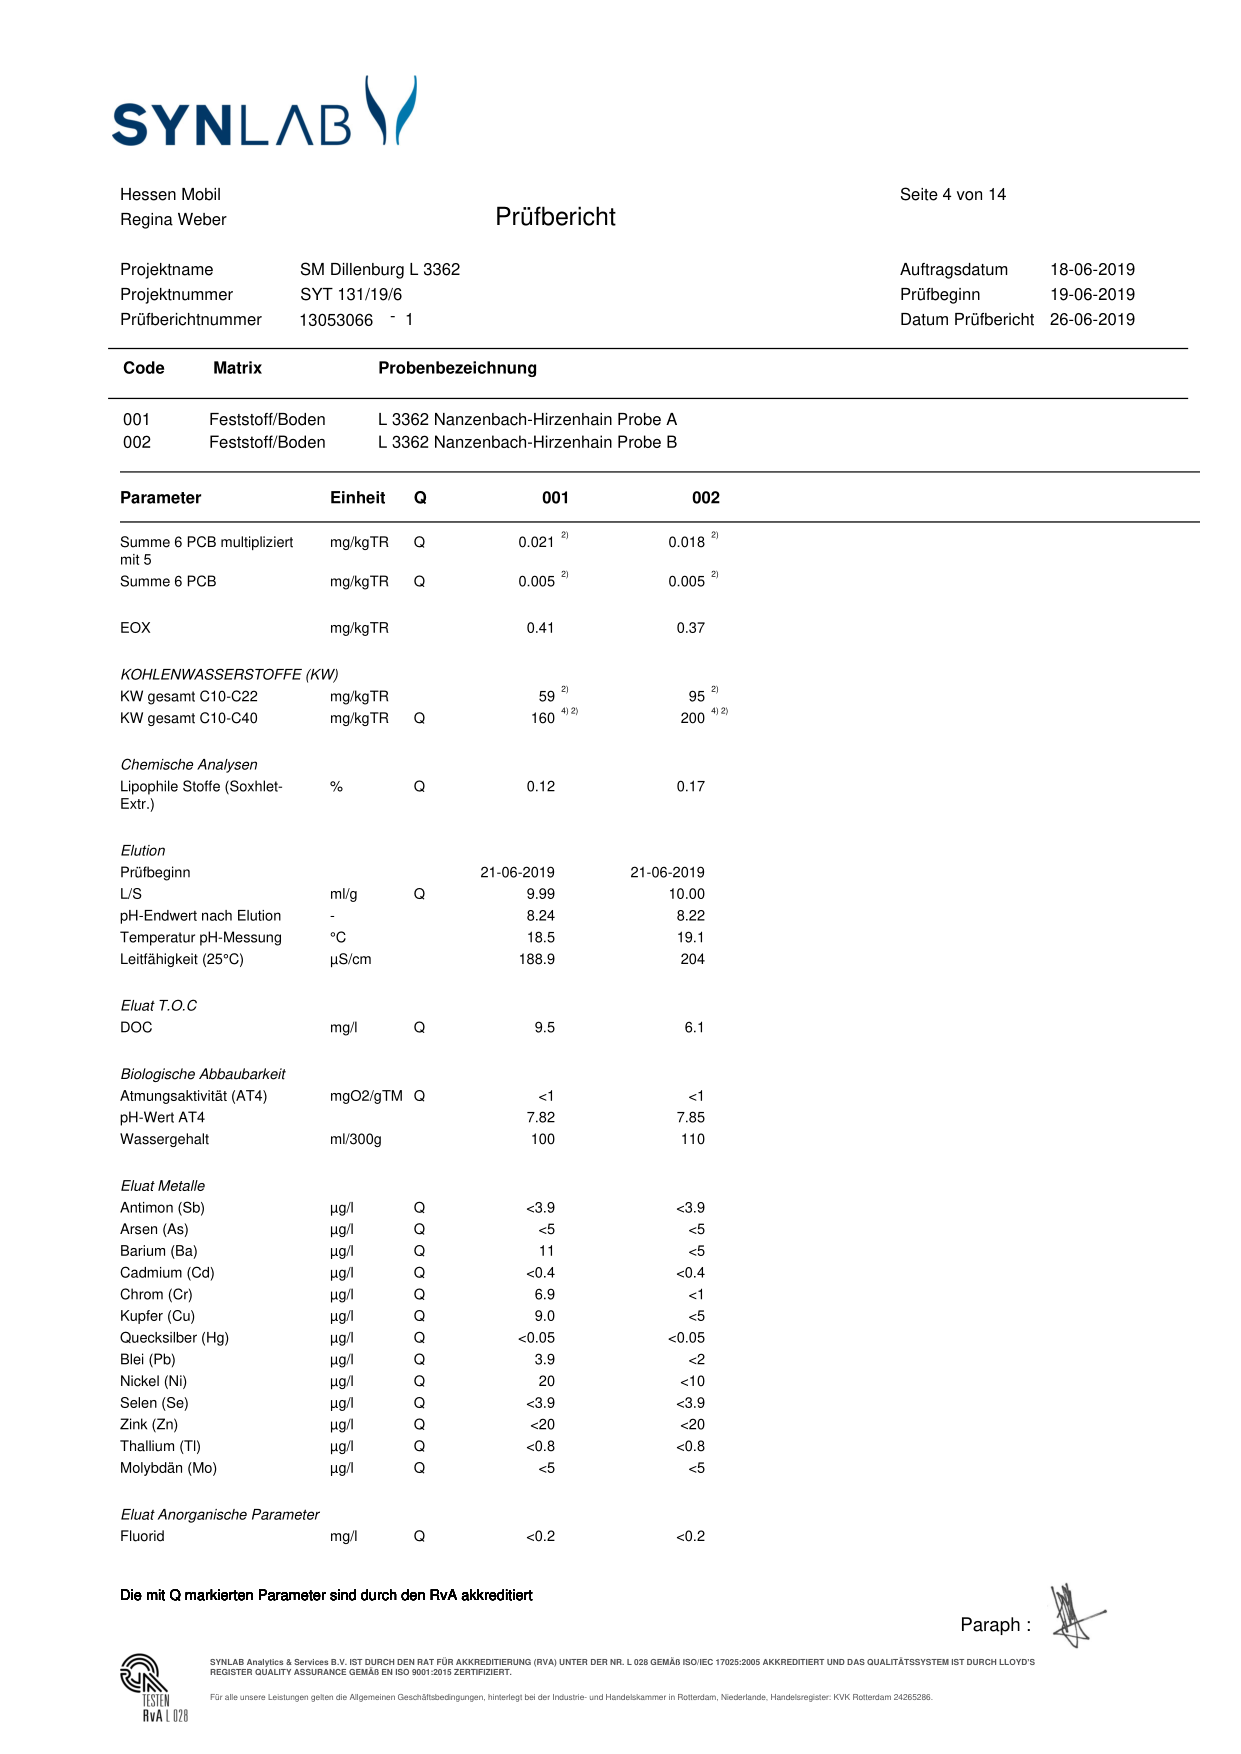table: (99, 1167, 733, 1492), (102, 835, 745, 978), (109, 529, 736, 647), (103, 1057, 774, 1155), (111, 662, 737, 735), (105, 749, 748, 817), (111, 1497, 736, 1555), (99, 993, 749, 1042)
